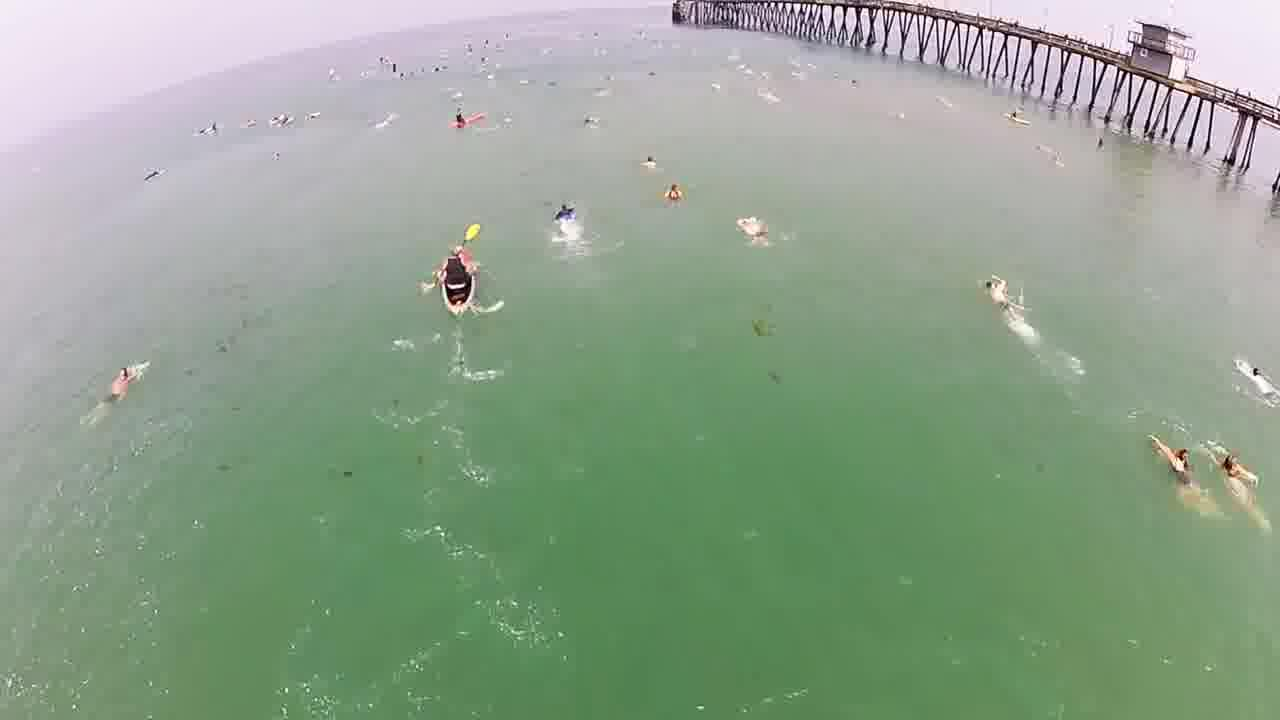swimmer: (1140, 426, 1200, 491), (1205, 426, 1255, 496), (971, 263, 1025, 318)
